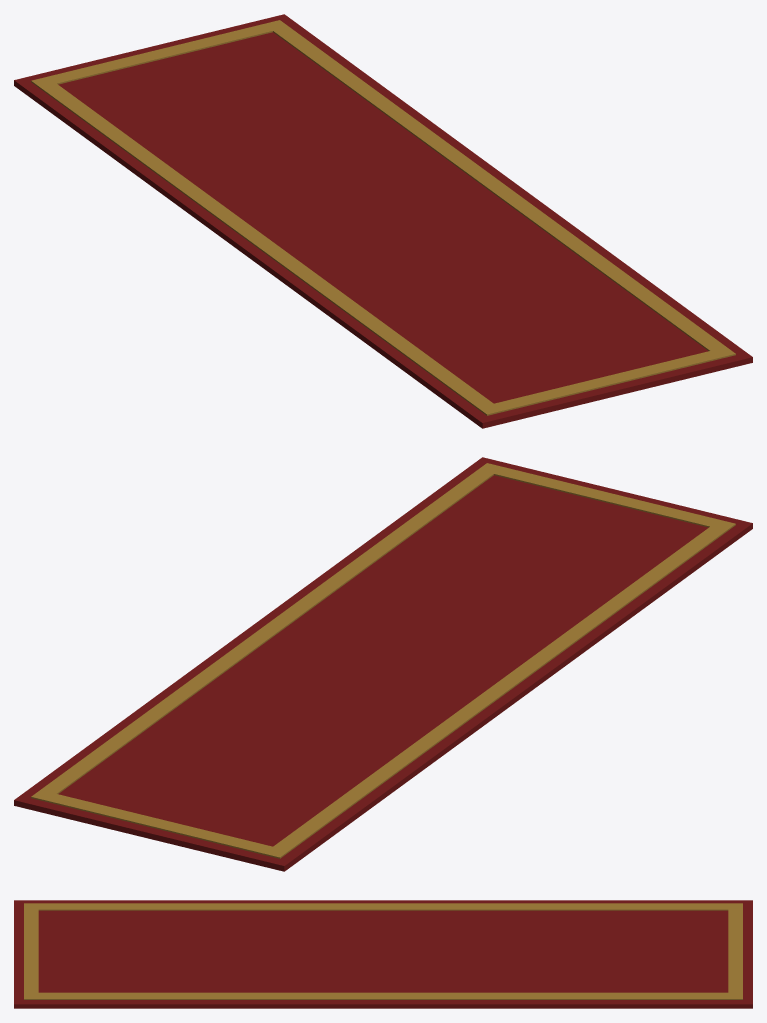
File: palace_f_rug_runner.glb
The picture shows the model from 3 angles, top to bottom: view 1: azimuth 30°, elevation 25°; view 2: azimuth 150°, elevation 25°; view 3: azimuth 270°, elevation 25°; orthographic projection. The views are drawn at different scales.
Parts seen in each view (by area): view 1: sw5e_int_palace_f_rug_runner; view 2: sw5e_int_palace_f_rug_runner; view 3: sw5e_int_palace_f_rug_runner.
Boxes of the visible parts, bbox=[...] form: sw5e_int_palace_f_rug_runner: bbox=[14, 14, 752, 428]; sw5e_int_palace_f_rug_runner: bbox=[14, 457, 752, 871]; sw5e_int_palace_f_rug_runner: bbox=[14, 900, 752, 1008].
Bounding box in the file's own units: 1 × 0.025 × 3.
